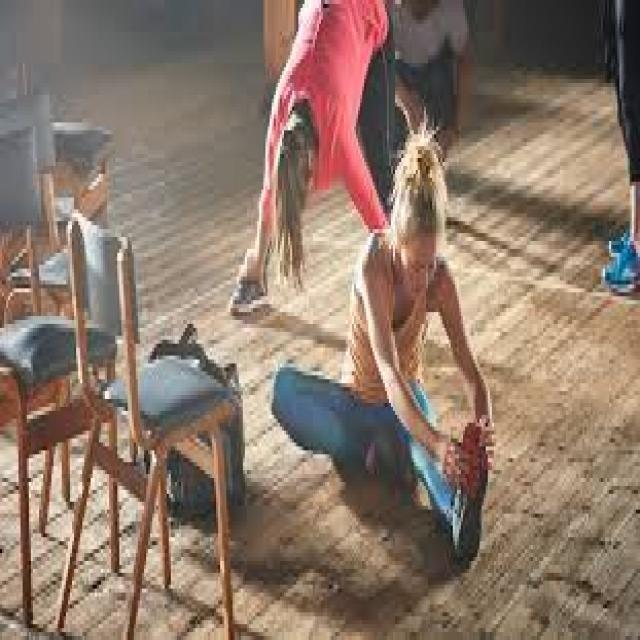chair: (66, 213, 241, 640), (0, 128, 125, 629)
